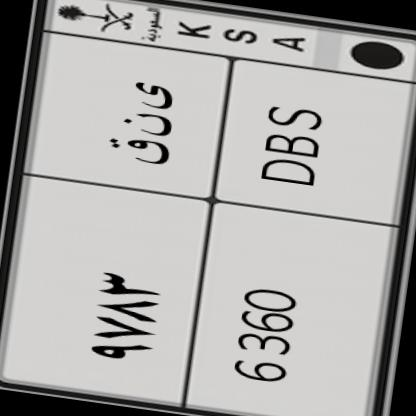english: (162, 49, 416, 416)
